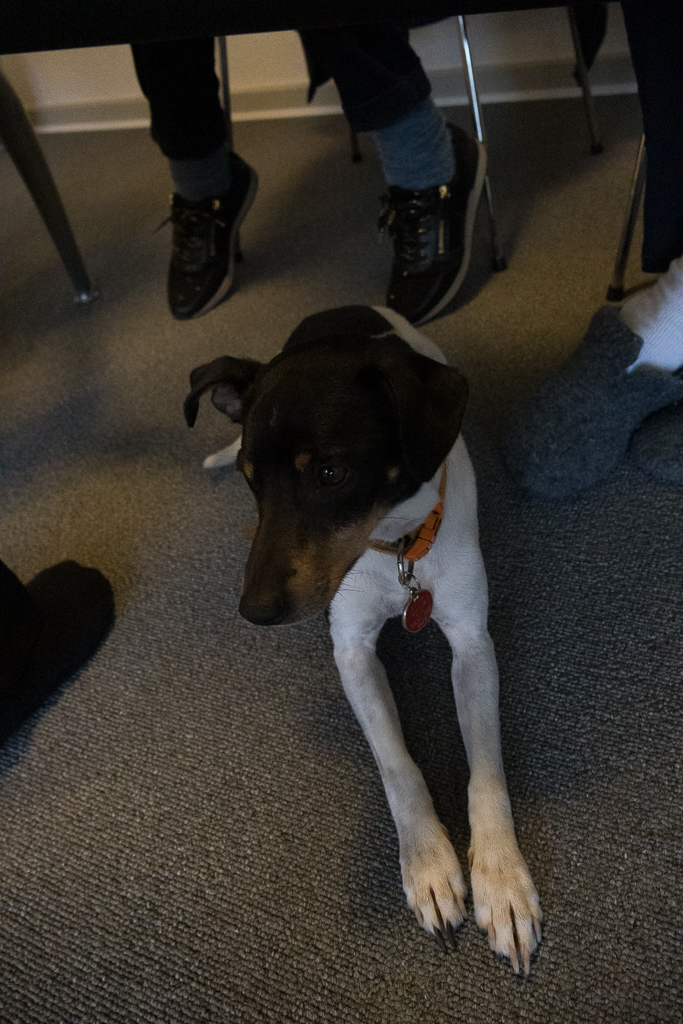Dog: (159, 292, 567, 984)
Humanoid: (109, 0, 501, 336), (488, 200, 683, 513), (0, 543, 126, 796)
